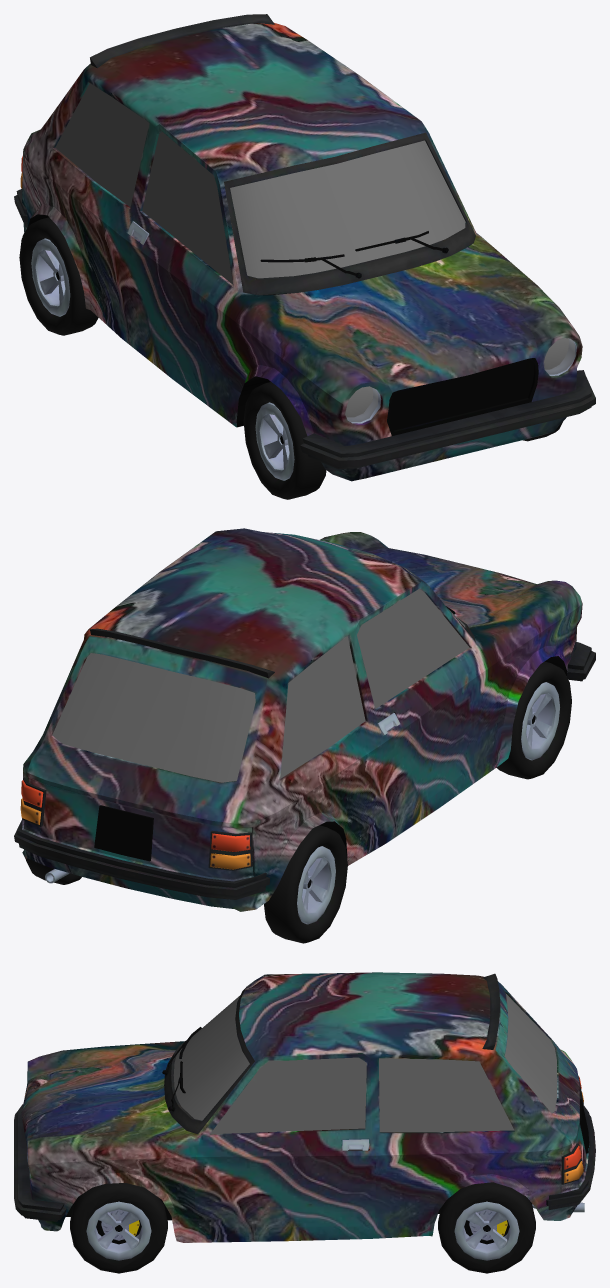
File: drift4.glb
3 renders of one model, top to bottom at view 1: azimuth 30°, elevation 25°; view 2: azimuth 150°, elevation 25°; view 3: azimuth 270°, elevation 25°, orthographic. The views are drawn at different scales.
Parts seen in each view (by area): view 1: object 2, object 3, object 1, WHEEL_wh_3_lux_4_other_lux_4_0, WHEEL_wh_4_lux_4_other_lux_4_0; view 2: object 2, object 3, object 1, WHEEL_wh_4_lux_4_other_lux_4_0, WHEEL_wh_3_lux_4_other_lux_4_0; view 3: object 2, object 3, object 1, WHEEL_wh_1_lux_4_other_lux_4_0, WHEEL_wh_2_lux_4_other_lux_4_0.
Boxes of the visible parts, left/top/right/bottom form: object 2: left=22, top=23, right=582, bottom=481; object 3: left=20, top=83, right=575, bottom=422; object 1: left=14, top=14, right=595, bottom=469; WHEEL_wh_3_lux_4_other_lux_4_0: left=243, top=382, right=326, bottom=499; WHEEL_wh_4_lux_4_other_lux_4_0: left=19, top=217, right=98, bottom=335; object 2: left=22, top=528, right=582, bottom=911; object 3: left=20, top=589, right=469, bottom=869; object 1: left=14, top=606, right=595, bottom=911; WHEEL_wh_4_lux_4_other_lux_4_0: left=264, top=825, right=347, bottom=943; WHEEL_wh_3_lux_4_other_lux_4_0: left=496, top=661, right=571, bottom=779; object 2: left=21, top=972, right=589, bottom=1242; object 3: left=173, top=994, right=583, bottom=1183; object 1: left=14, top=973, right=595, bottom=1221; WHEEL_wh_1_lux_4_other_lux_4_0: left=70, top=1183, right=167, bottom=1273; WHEEL_wh_2_lux_4_other_lux_4_0: left=438, top=1182, right=535, bottom=1273.
Size of the model in its own units: 1.52 by 1.37 by 3.27.
3 materials, 3 textured.
